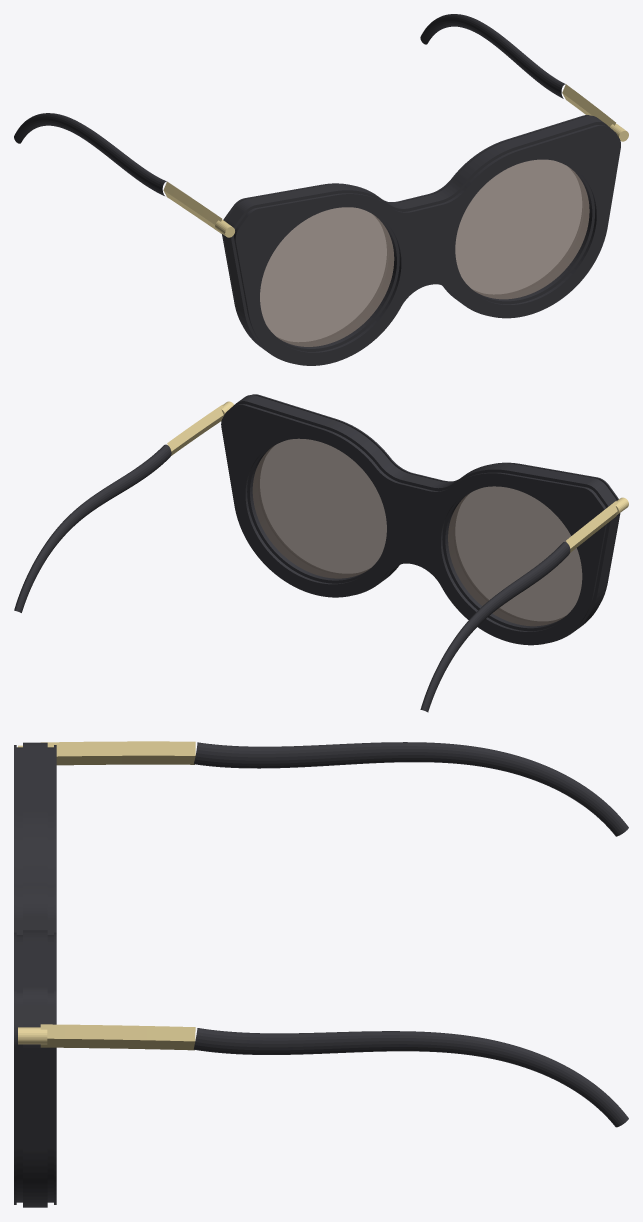
The model's file is thierry_lasry_cateye(2).glb.
3 renders of one model, top to bottom at view 1: azimuth 30°, elevation 25°; view 2: azimuth 150°, elevation 25°; view 3: azimuth 270°, elevation 25°, orthographic. The views are drawn at different scales.
Parts seen in each view (by area): view 1: frame, lenses, gold_parts; view 2: frame, lenses, gold_parts; view 3: frame, gold_parts.
Part boxes in pixels (<box>): frame: <box>14,14,620,365</box>; lenses: <box>260,159,589,346</box>; gold_parts: <box>163,84,628,237</box>; frame: <box>14,394,620,712</box>; lenses: <box>252,438,582,626</box>; gold_parts: <box>167,401,628,552</box>; frame: <box>14,742,628,1207</box>; gold_parts: <box>18,741,195,1050</box>.
Size of the model in its own units: 0.1312 by 0.0531 by 0.1153.
